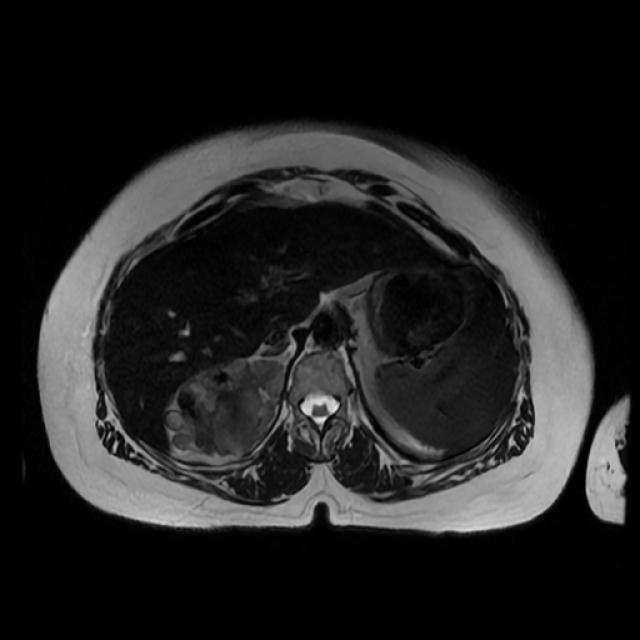sag: (166, 357, 285, 458)
